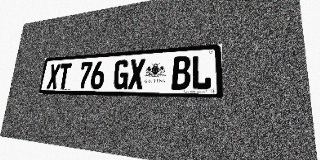6: (90, 61, 106, 89)
7: (77, 62, 93, 89)
B: (171, 56, 191, 90)
G: (113, 59, 130, 89)
L: (191, 54, 211, 90)
T: (57, 63, 72, 89)
X: (128, 58, 145, 89), (46, 64, 61, 89)
